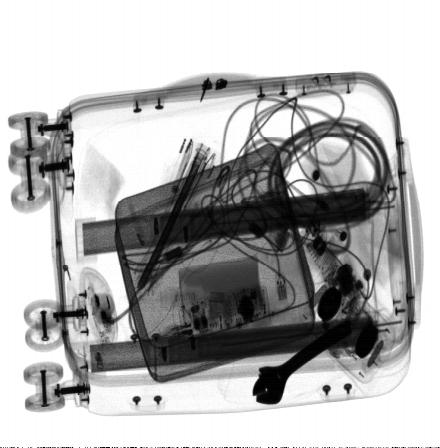Wrench: (253, 320, 351, 405)
